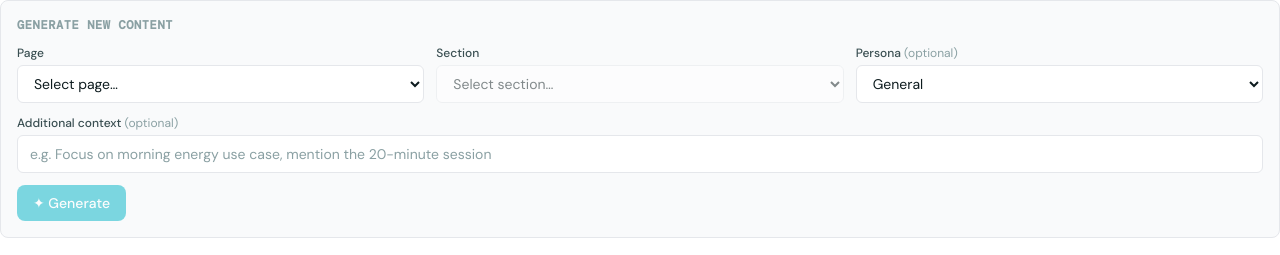
Test case: ContentGenerationForm › shows needs_review warning when status is needs_review
The width and height of the screenshot is (1280, 255).
Select "Homepage" in the dropdown labelled "Page": (221, 84) [17,65,424,103]
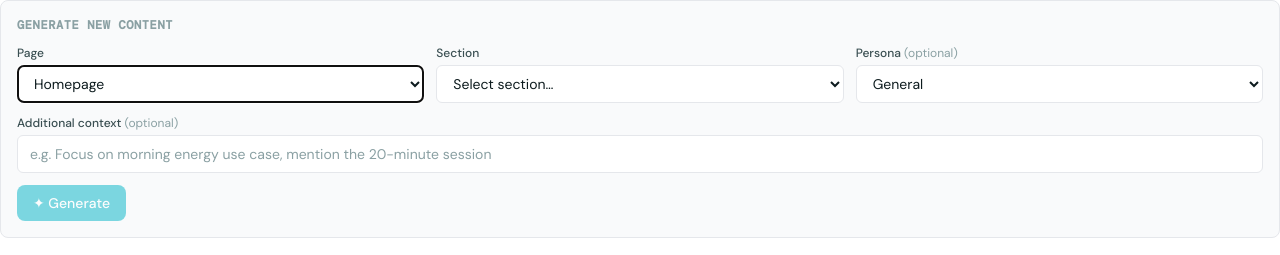
Select "Hero" in the dropdown labelled "Section": (640, 84) [436,65,844,103]
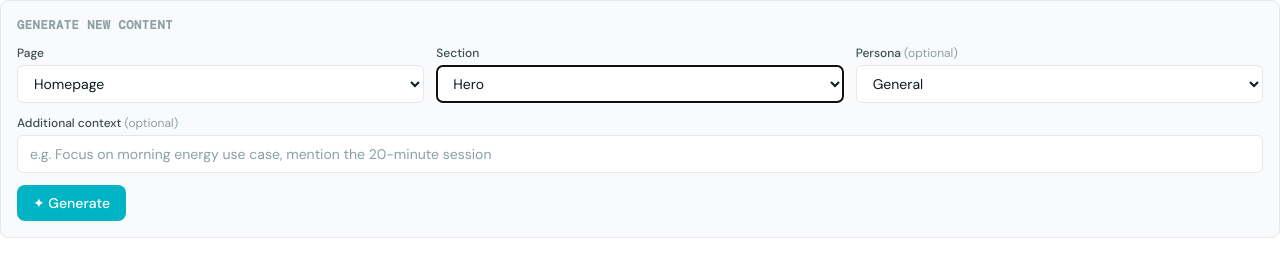
Click the button "✦ Generate": (72, 203) [17,185,126,221]
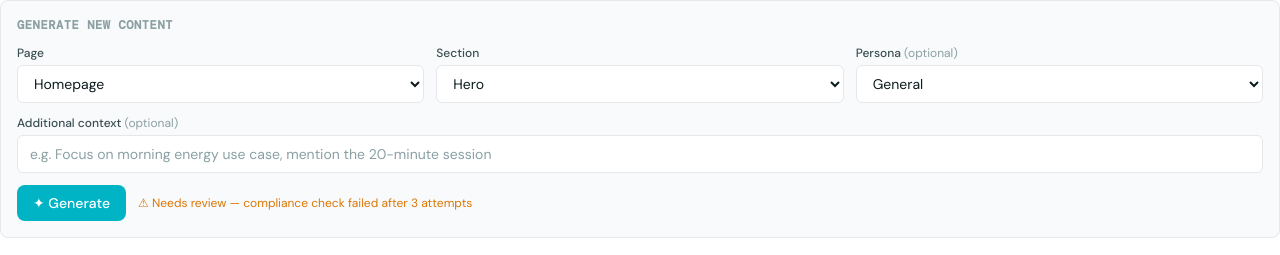
Result: the text "⚠ Needs review — compliance check failed after 3 attempts" is shown at [138,195,472,211]
